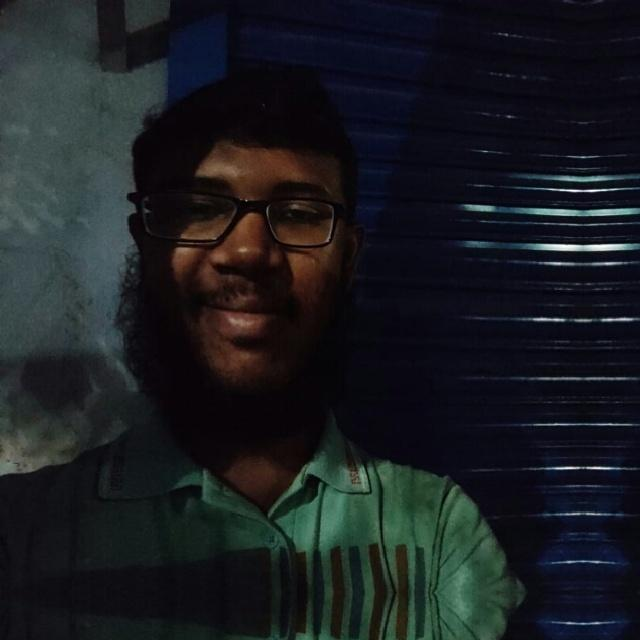Happy: (119, 95, 355, 387)
